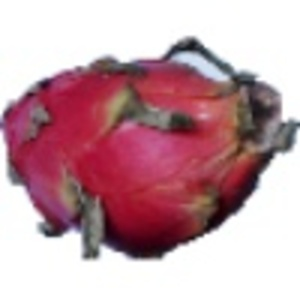pitaia: (1, 38, 300, 261)
